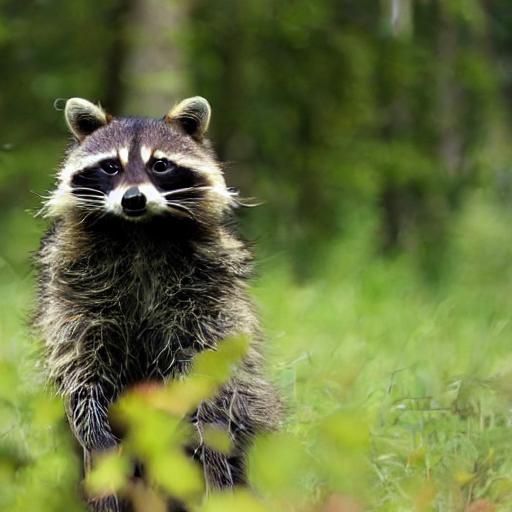raccoon: (30, 87, 294, 493)
